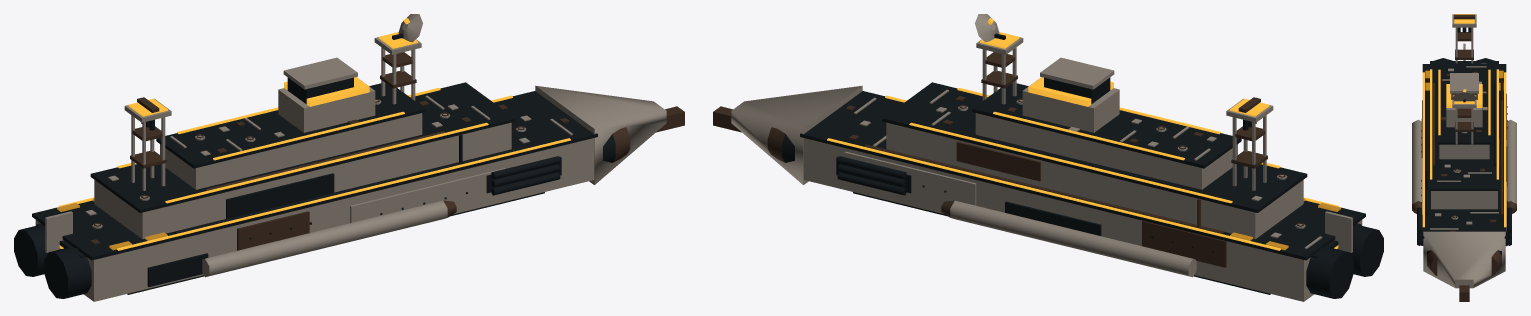
The model's file is cruiser-bathyarch.glb.
3 renders of one model, left to right at view 1: azimuth 30°, elevation 25°; view 2: azimuth 150°, elevation 25°; view 3: azimuth 270°, elevation 25°, orthographic. The views are drawn at different scales.
Visible parts, largest first — view 1: hull_lower, hull_mid, deck_lower, deck_mid, hull_upper, deck_upper, bow_wedge, ballast_s, armor_s1, citadel, pressure_cyl_s, armor_m_s (+17 smaller); view 2: hull_lower, hull_mid, deck_lower, deck_mid, hull_upper, deck_upper, bow_wedge, ballast_p, citadel, armor_p1, pressure_cyl_p, armor_p3 (+17 smaller); view 3: bow_wedge, deck_mid, deck_lower, deck_upper, hull_mid, ballast_p, ballast_s, hull_upper, citadel_visor, lightline_low_p, lightline_low_s, citadel (+29 smaller).
Part boxes in pixels (x1=…): hull_lower: x1=35, y1=138, x2=594, y2=301; hull_mid: x1=94, y1=122, x2=511, y2=239; deck_lower: x1=32, y1=91, x2=597, y2=260; deck_mid: x1=90, y1=82, x2=515, y2=212; hull_upper: x1=160, y1=113, x2=422, y2=189; deck_upper: x1=156, y1=83, x2=425, y2=168; bow_wedge: x1=535, y1=85, x2=666, y2=184; ballast_s: x1=202, y1=200, x2=447, y2=277; armor_s1: x1=350, y1=168, x2=505, y2=223; citadel: x1=278, y1=77, x2=375, y2=132; pressure_cyl_s: x1=44, y1=134, x2=615, y2=298; armor_m_s: x1=226, y1=173, x2=334, y2=218; hull_lower: x1=803, y1=138, x2=1362, y2=301; hull_mid: x1=886, y1=122, x2=1303, y2=239; deck_lower: x1=800, y1=91, x2=1365, y2=260; deck_mid: x1=882, y1=82, x2=1307, y2=212; hull_upper: x1=975, y1=113, x2=1237, y2=189; deck_upper: x1=972, y1=83, x2=1241, y2=168; bow_wedge: x1=731, y1=85, x2=862, y2=184; ballast_p: x1=950, y1=200, x2=1196, y2=277; citadel: x1=1022, y1=77, x2=1119, y2=132; armor_p1: x1=844, y1=151, x2=976, y2=205; pressure_cyl_p: x1=782, y1=134, x2=1353, y2=298; armor_p3: x1=1142, y1=221, x2=1226, y2=267; bow_wedge: x1=1423, y1=231, x2=1505, y2=288; deck_mid: x1=1430, y1=61, x2=1498, y2=190; deck_lower: x1=1422, y1=64, x2=1506, y2=238; deck_upper: x1=1438, y1=63, x2=1490, y2=144; hull_mid: x1=1431, y1=191, x2=1497, y2=209; ballast_p: x1=1506, y1=119, x2=1516, y2=203; ballast_s: x1=1412, y1=119, x2=1422, y2=203; hull_upper: x1=1439, y1=144, x2=1489, y2=159; citadel_visor: x1=1450, y1=73, x2=1478, y2=93; lightline_low_p: x1=1504, y1=72, x2=1506, y2=227; lightline_low_s: x1=1422, y1=72, x2=1424, y2=227; citadel: x1=1446, y1=108, x2=1482, y2=127.
Bounding box in the file's own units: 130 × 36.62 × 26.36.
